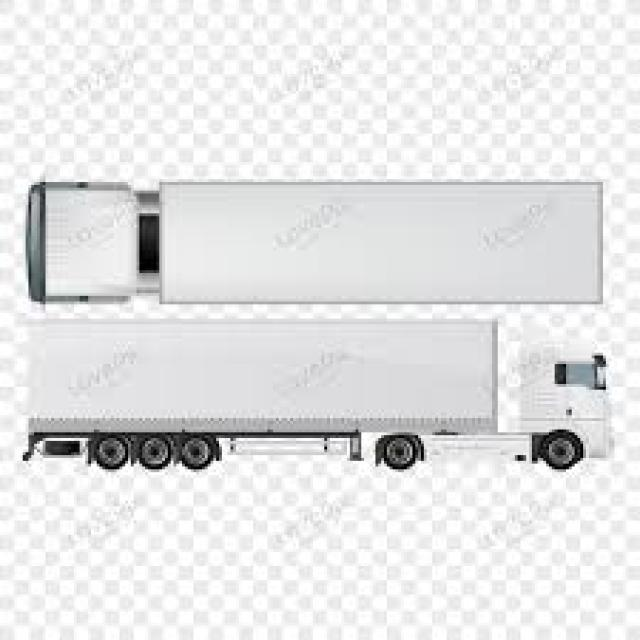truck: (27, 322, 611, 470), (24, 178, 604, 306)
